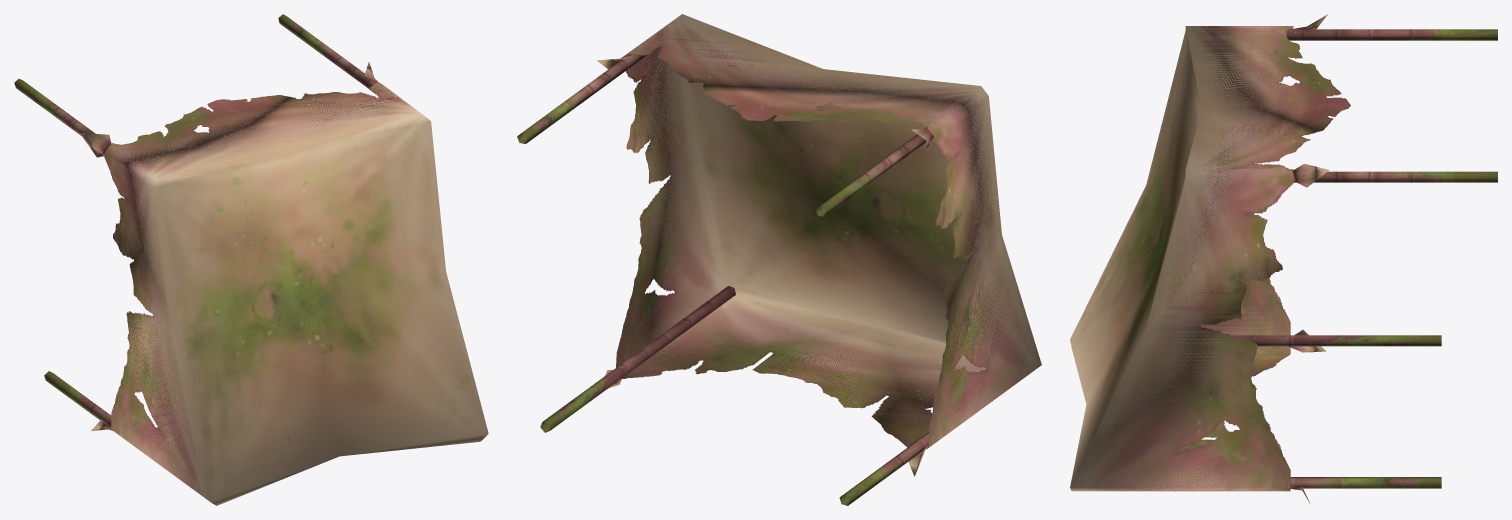
The picture shows the model from 3 angles, left to right: view 1: azimuth 30°, elevation 25°; view 2: azimuth 150°, elevation 25°; view 3: azimuth 270°, elevation 25°; orthographic projection. The views are drawn at different scales.
Visible parts, largest first — view 1: "object0005_Editable Mesh"; view 2: "object0005_Editable Mesh"; view 3: "object0005_Editable Mesh".
Part boxes in pixels (x1,y1,x2,y2): "object0005_Editable Mesh": [14, 14, 488, 505]; "object0005_Editable Mesh": [517, 14, 1041, 505]; "object0005_Editable Mesh": [1070, 14, 1497, 503].
Bounding box in the file's own units: 6.34 × 6.13 × 7.16.
